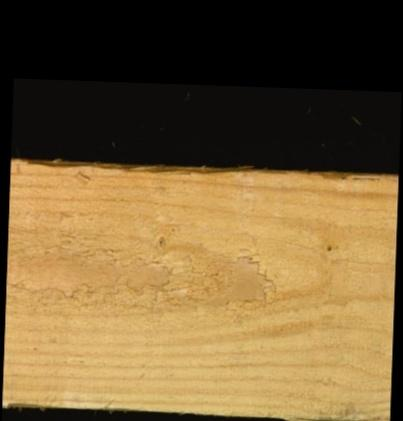small_knot: (152, 232, 169, 252), (321, 239, 335, 258)
wave: (17, 164, 254, 181), (300, 171, 379, 187)
